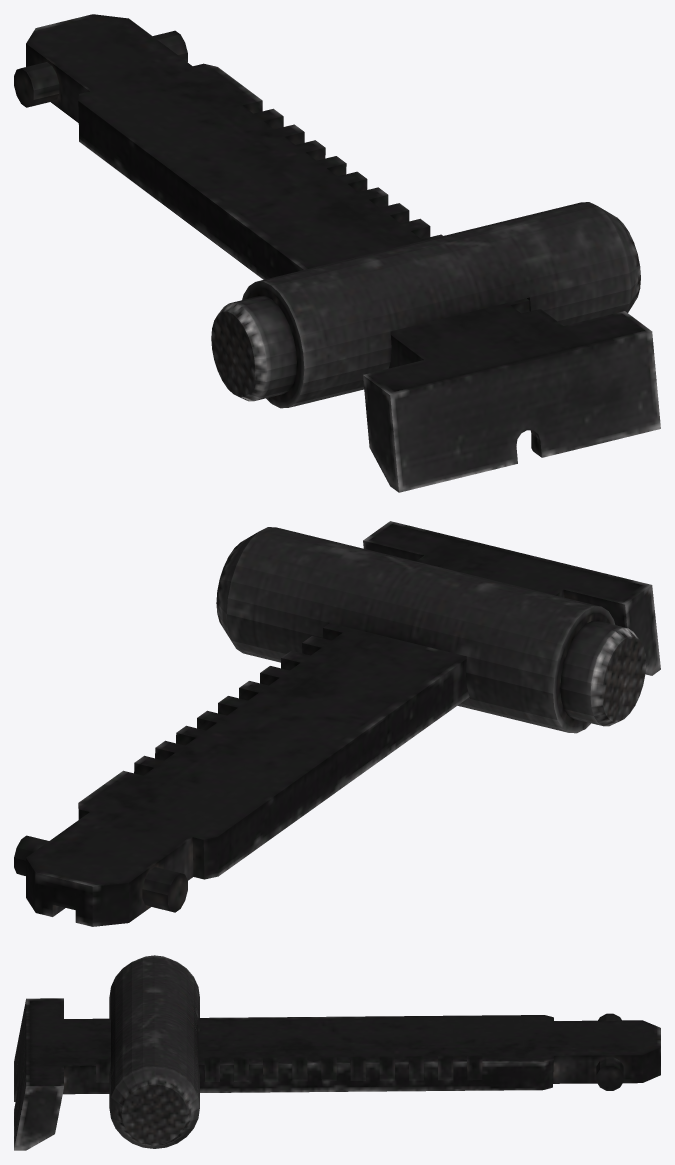
3 views of the same model, one above another, from view 1: azimuth 30°, elevation 25°; view 2: azimuth 150°, elevation 25°; view 3: azimuth 270°, elevation 25° (orthographic). The views are drawn at different scales.
Visible parts, largest first — view 1: TW_5c471b7e2e2216152006e46c_PZ_Import; view 2: TW_5c471b7e2e2216152006e46c_PZ_Import; view 3: TW_5c471b7e2e2216152006e46c_PZ_Import.
Boxes of the visible parts, bbox=[...] form: TW_5c471b7e2e2216152006e46c_PZ_Import: bbox=[14, 14, 660, 492]; TW_5c471b7e2e2216152006e46c_PZ_Import: bbox=[14, 521, 660, 926]; TW_5c471b7e2e2216152006e46c_PZ_Import: bbox=[14, 955, 660, 1150].
Bounding box in the file's own units: 0.0184 × 0.0387 × 0.00639.
1 material, 1 textured.
